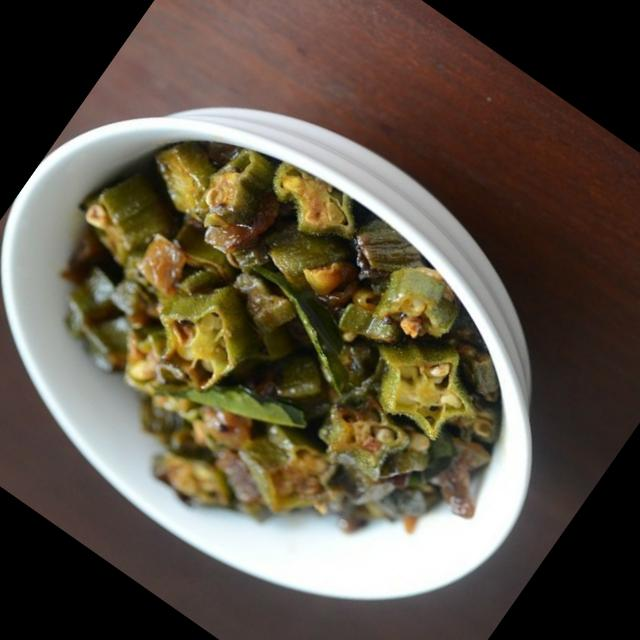BhindiMasala: (0, 73, 582, 640)
